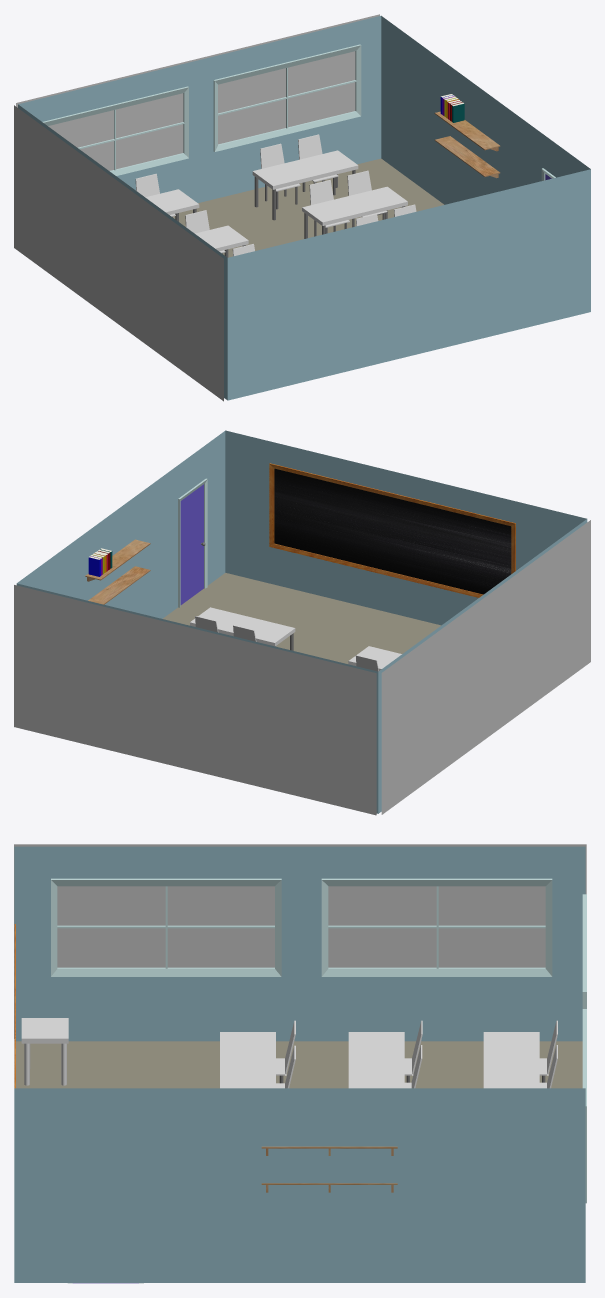
File: classroom.dae
3 renders of one model, top to bottom at view 1: azimuth 30°, elevation 25°; view 2: azimuth 150°, elevation 25°; view 3: azimuth 270°, elevation 25°, orthographic. The views are drawn at different scales.
Parts seen in each view (by area): view 1: Room, Outdoor_001, Outdoor, Window, Table05, Table04, Bookshelf, Table06, Table03, Chair_10, Chair_09, Chair_06 (+1 smaller); view 2: Outdoor, Room, Outdoor_001, Blackboard, Door, Table02, Bookshelf, Table01; view 3: Room, Outdoor_001, Window, Table03, Table06, Table01, Side_Table, Bookshelf.
Boxes of the visible parts, <box> form: Room: <box>18,15,590,400</box>; Outdoor_001: <box>14,105,223,401</box>; Outdoor: <box>16,14,379,170</box>; Window: <box>42,44,361,175</box>; Table05: <box>252,150,358,220</box>; Table04: <box>302,186,407,238</box>; Bookshelf: <box>434,111,500,178</box>; Table06: <box>145,189,199,221</box>; Table03: <box>195,225,248,257</box>; Chair_10: <box>260,143,300,209</box>; Chair_09: <box>298,134,338,195</box>; Chair_06: <box>309,180,349,236</box>; Outdoor: <box>14,585,376,815</box>; Room: <box>16,430,587,813</box>; Outdoor_001: <box>381,520,590,814</box>; Blackboard: <box>269,463,515,597</box>; Door: <box>178,478,207,607</box>; Table02: <box>190,607,295,650</box>; Bookshelf: <box>85,539,150,604</box>; Table01: <box>348,646,401,670</box>; Room: <box>14,846,585,1282</box>; Outdoor_001: <box>14,844,586,1038</box>; Window: <box>51,878,586,1203</box>; Table03: <box>348,1032,404,1088</box>; Table06: <box>483,1032,539,1088</box>; Table01: <box>220,1032,275,1088</box>; Side_Table: <box>21,1018,68,1085</box>; Bookshelf: <box>261,1146,397,1192</box>.
Size of the model in its own units: 16.16 by 16.12 by 6.01.
